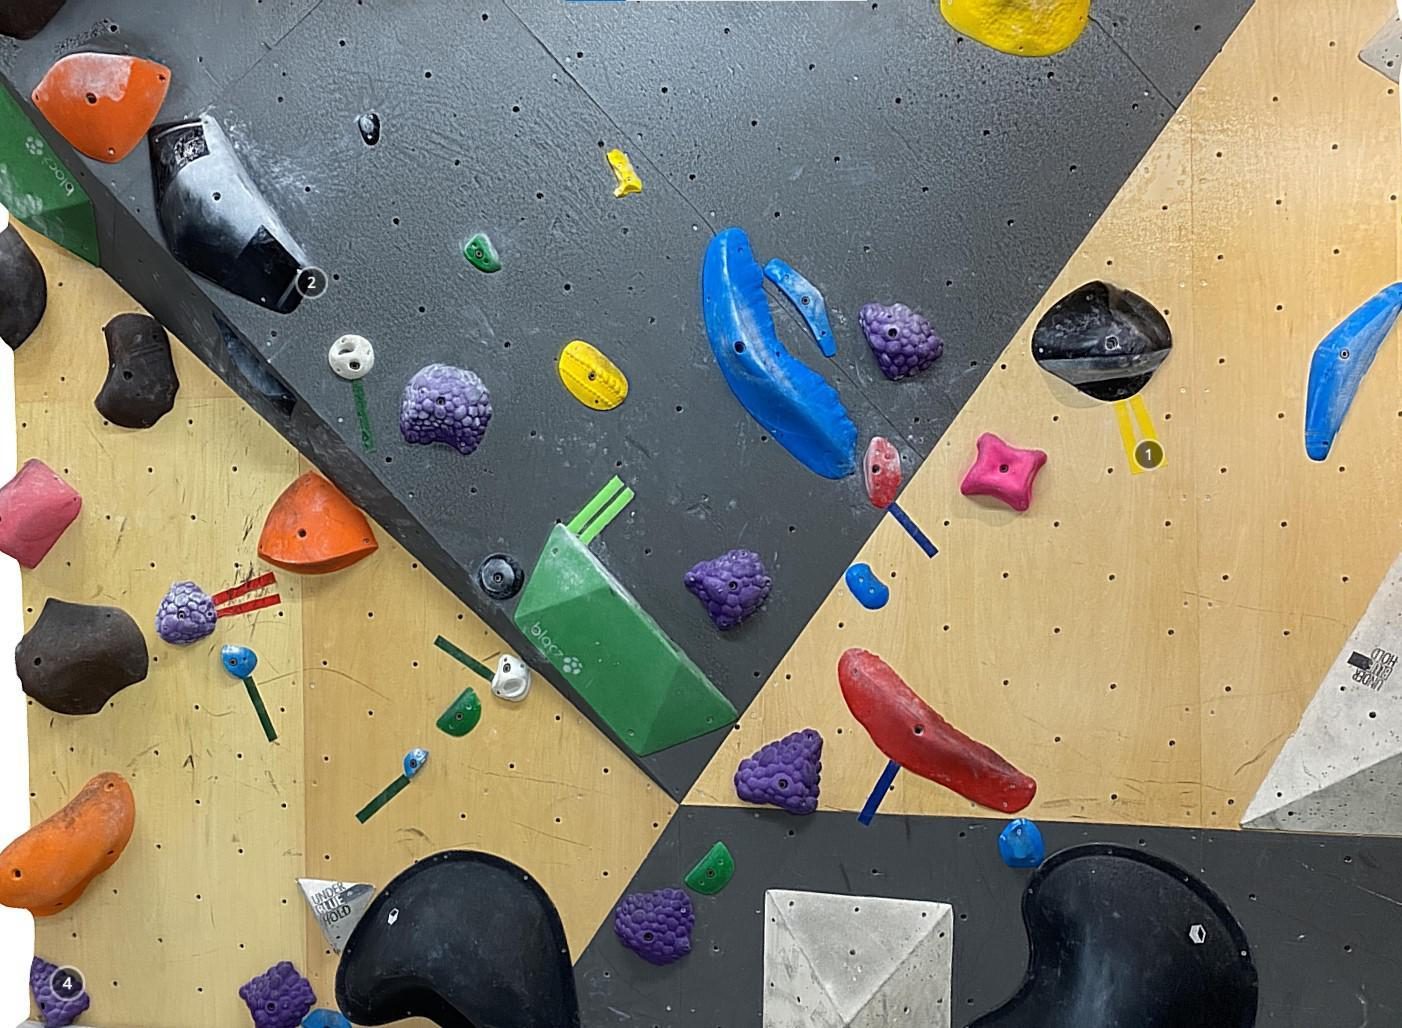hold: (962, 841, 1259, 1028), (514, 524, 739, 757), (334, 849, 580, 1028), (703, 227, 858, 479), (147, 115, 317, 314), (838, 647, 1037, 815), (0, 770, 135, 916), (0, 79, 101, 267), (1305, 282, 1402, 461), (1031, 280, 1172, 402), (14, 598, 149, 714), (32, 52, 172, 162), (257, 472, 378, 576), (95, 314, 180, 429), (0, 458, 83, 568), (211, 311, 296, 417), (399, 363, 493, 455), (940, 0, 1091, 57), (735, 730, 823, 816), (684, 548, 773, 631), (764, 257, 837, 358), (858, 302, 945, 381), (961, 432, 1047, 512), (613, 888, 696, 966), (0, 224, 47, 350), (239, 960, 317, 1028), (559, 340, 629, 411), (29, 956, 90, 1028), (156, 582, 217, 645), (863, 436, 902, 507), (684, 841, 735, 894), (0, 0, 66, 39), (997, 818, 1045, 869), (435, 687, 481, 737), (478, 552, 525, 600), (329, 334, 374, 380), (846, 563, 889, 610), (491, 652, 531, 701), (606, 148, 642, 198), (464, 233, 501, 272), (221, 645, 256, 680), (302, 1008, 353, 1028), (404, 749, 429, 778), (359, 112, 380, 145)
volume: (1239, 549, 1402, 835), (763, 889, 954, 1028), (297, 878, 376, 956), (1358, 13, 1402, 85)
